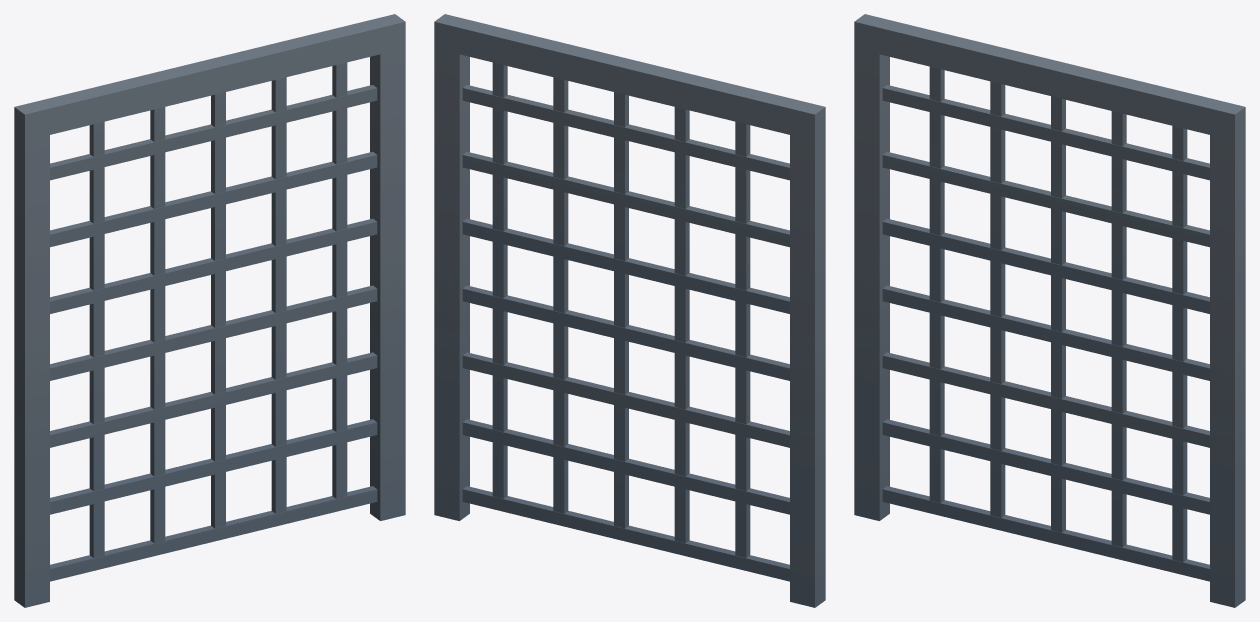
Rendered from Fence_1_A_2.fbx.
The picture shows the model from 3 angles, left to right: view 1: azimuth 30°, elevation 25°; view 2: azimuth 150°, elevation 25°; view 3: azimuth 330°, elevation 25°; orthographic projection.
Parts seen in each view (by area): view 1: Fence_1_A_2; view 2: Fence_1_A_2; view 3: Fence_1_A_2.
Part boxes in pixels (box(x1,y1,x2,y2)): Fence_1_A_2: box(14, 14, 405, 607); Fence_1_A_2: box(434, 14, 825, 607); Fence_1_A_2: box(854, 14, 1245, 607).
Size of the model in its own units: 200 by 248 by 9.6.
